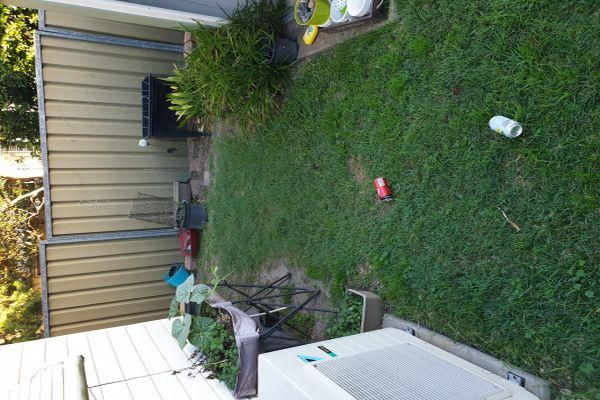Plastic Bottle: (488, 115, 523, 138), (373, 177, 394, 202)
